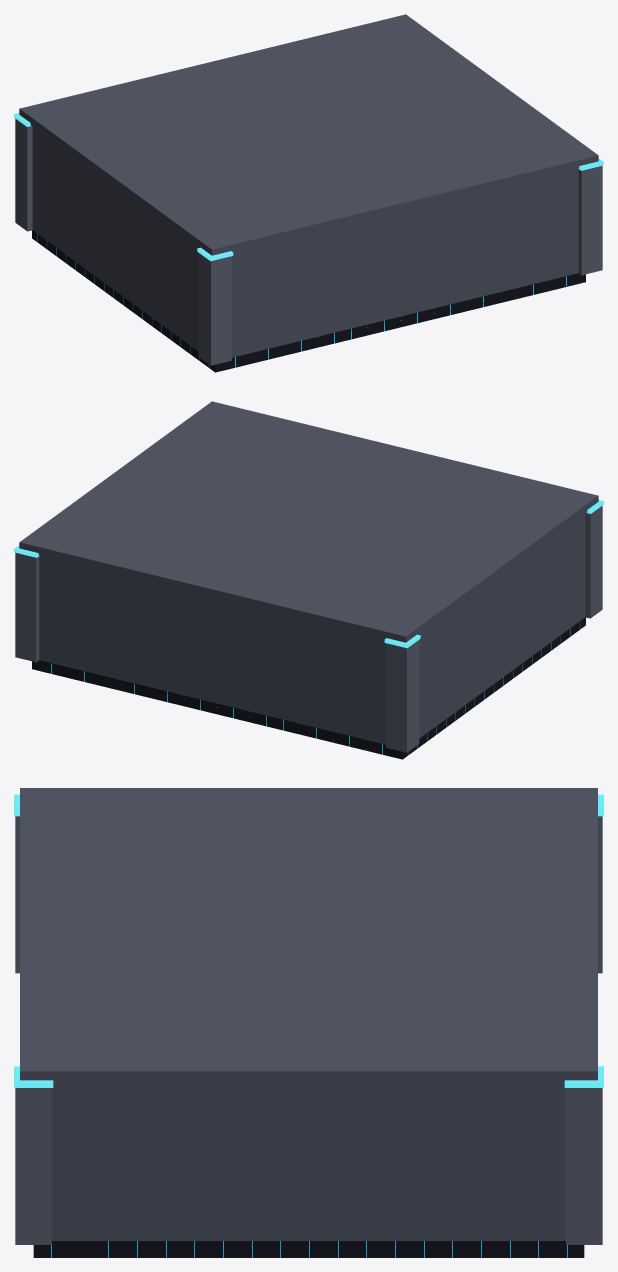
File: east.glb
The picture shows the model from 3 angles, top to bottom: view 1: azimuth 30°, elevation 25°; view 2: azimuth 150°, elevation 25°; view 3: azimuth 270°, elevation 25°; orthographic projection. The views are drawn at different scales.
Parts seen in each view (by area): view 1: E_Roof, E_Wall_S, E_Wall_West, E_Floor, E_Post.003, E_Post.001, E_Post.002; view 2: E_Roof, E_Wall_N, E_Wall_West, E_Floor, E_Post.002, E_Post, E_Post.003; view 3: E_Roof, E_Wall_Far, E_Floor, E_Post, E_Post.001, E_Post.002, E_Post.003.
Boxes of the visible parts, box(x1,y1,x2,y2) form: E_Roof: box(19, 14, 598, 255); E_Wall_S: box(232, 168, 578, 357); E_Wall_West: box(32, 127, 198, 351); E_Floor: box(32, 230, 585, 372); E_Post.003: box(198, 253, 231, 365); E_Post.001: box(578, 165, 602, 275); E_Post.002: box(15, 118, 32, 231); E_Roof: box(19, 401, 598, 642); E_Wall_N: box(39, 555, 385, 744); E_Wall_West: box(419, 514, 585, 738); E_Floor: box(32, 617, 585, 759); E_Post.002: box(386, 640, 419, 752); E_Post: box(15, 552, 39, 662); E_Post.003: box(585, 505, 602, 618); E_Roof: box(20, 788, 597, 1083); E_Wall_Far: box(52, 1083, 565, 1240); E_Floor: box(33, 1241, 584, 1257); E_Post: box(566, 1088, 602, 1244); E_Post.001: box(15, 1088, 51, 1244); E_Post.002: box(598, 816, 602, 973); E_Post.003: box(15, 816, 19, 973).
Bounding box in the file's own units: 14.86 × 4.63 × 12.86.
Materials: 7 (1 with a texture image).
